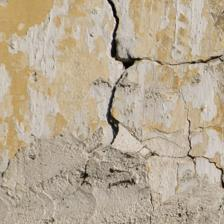Crack: (30, 16, 209, 221), (4, 29, 67, 181), (0, 9, 78, 49), (55, 54, 76, 126)
